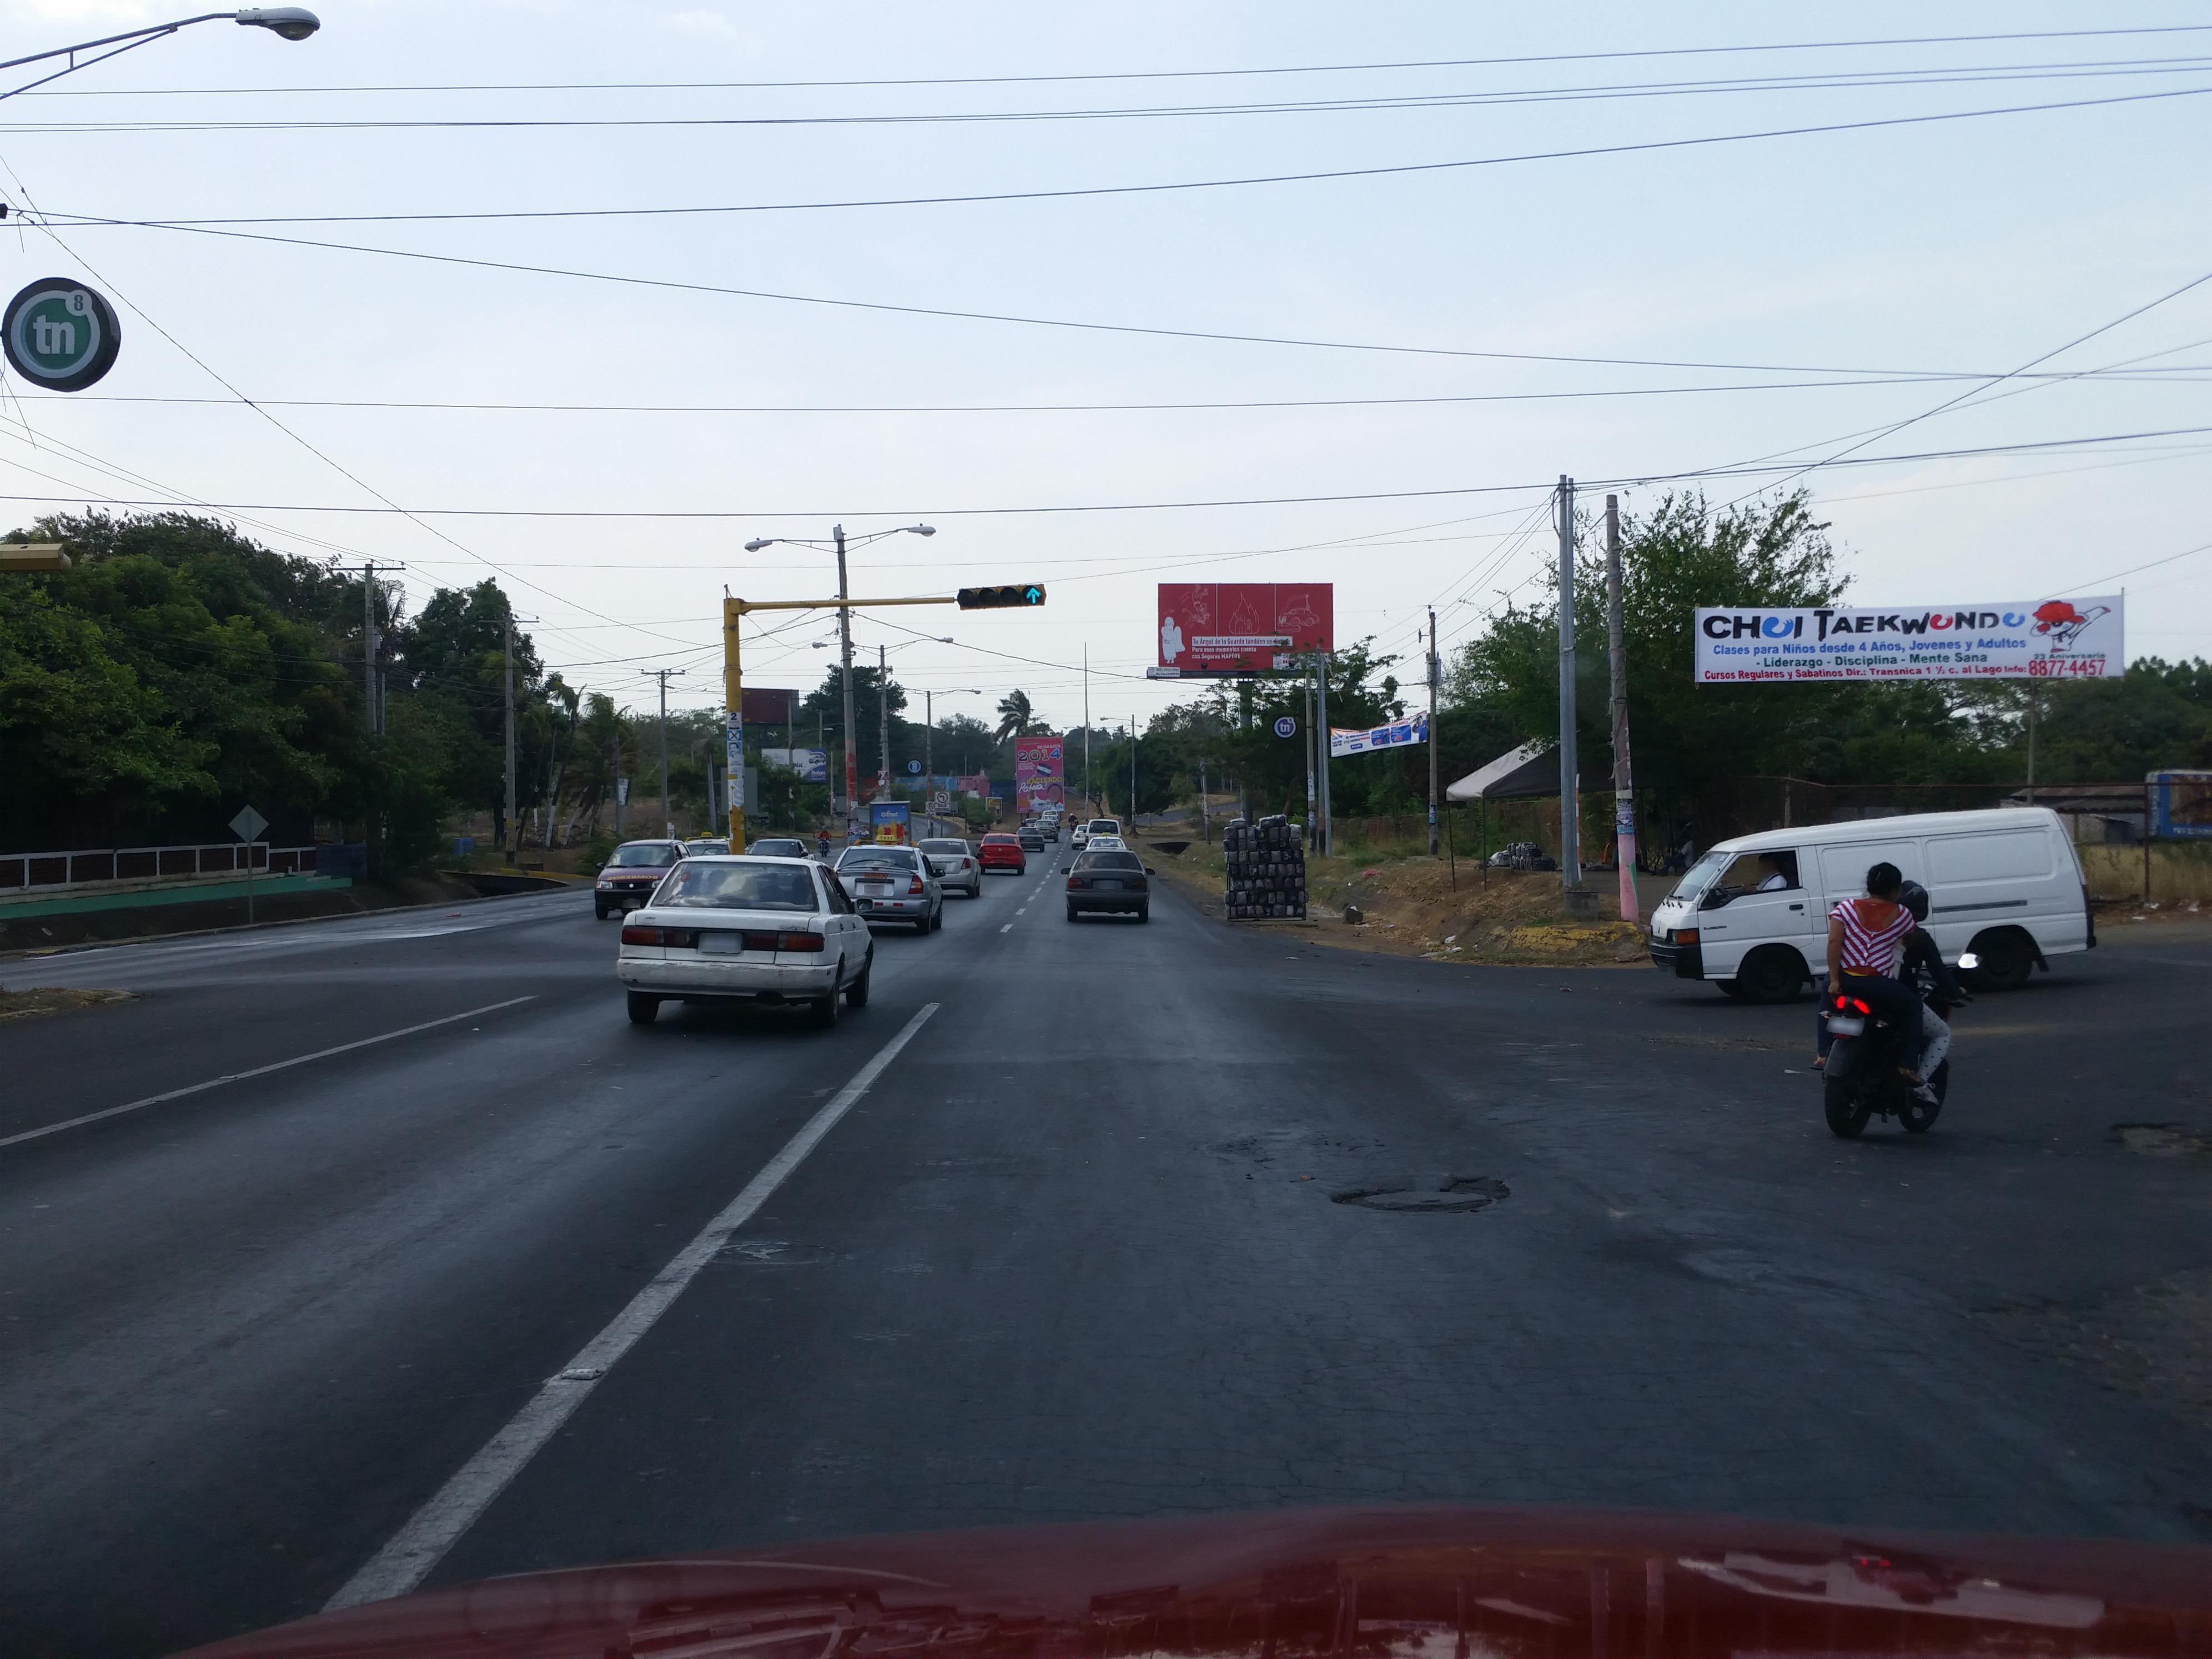vinyl banner: (1674, 584, 2120, 711), (1318, 702, 1468, 774)
